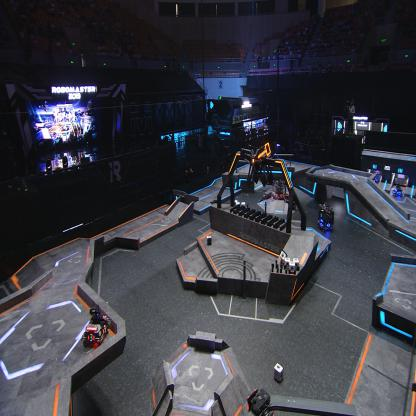car: (82, 304, 112, 348), (318, 200, 334, 232), (272, 177, 286, 200), (284, 188, 296, 209), (391, 183, 404, 198), (370, 170, 380, 184)
